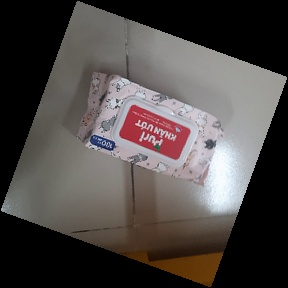Puri hong: (69, 70, 225, 189)
